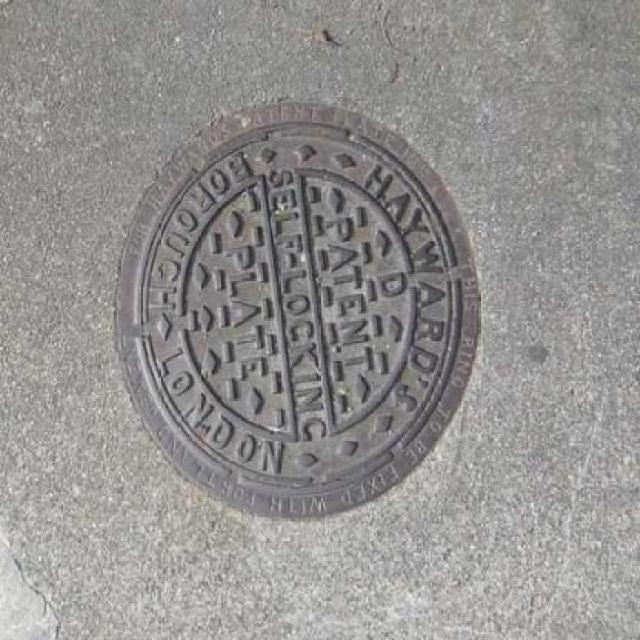Manhole: (106, 92, 486, 526)
